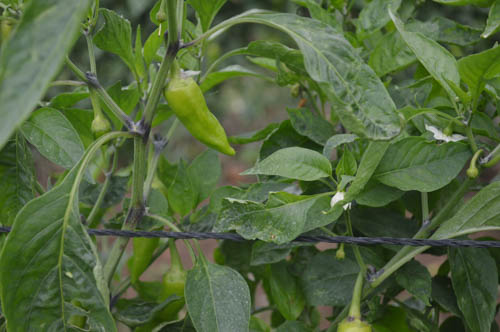ChiliPepper: (166, 77, 238, 156), (130, 233, 160, 295), (154, 276, 192, 322)
